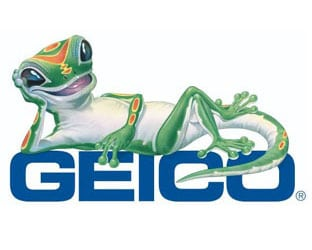Geico: (7, 151, 300, 205)
